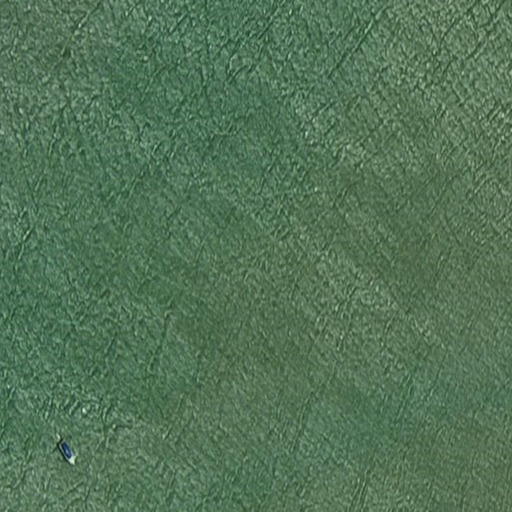ship: (55, 435, 77, 470)
